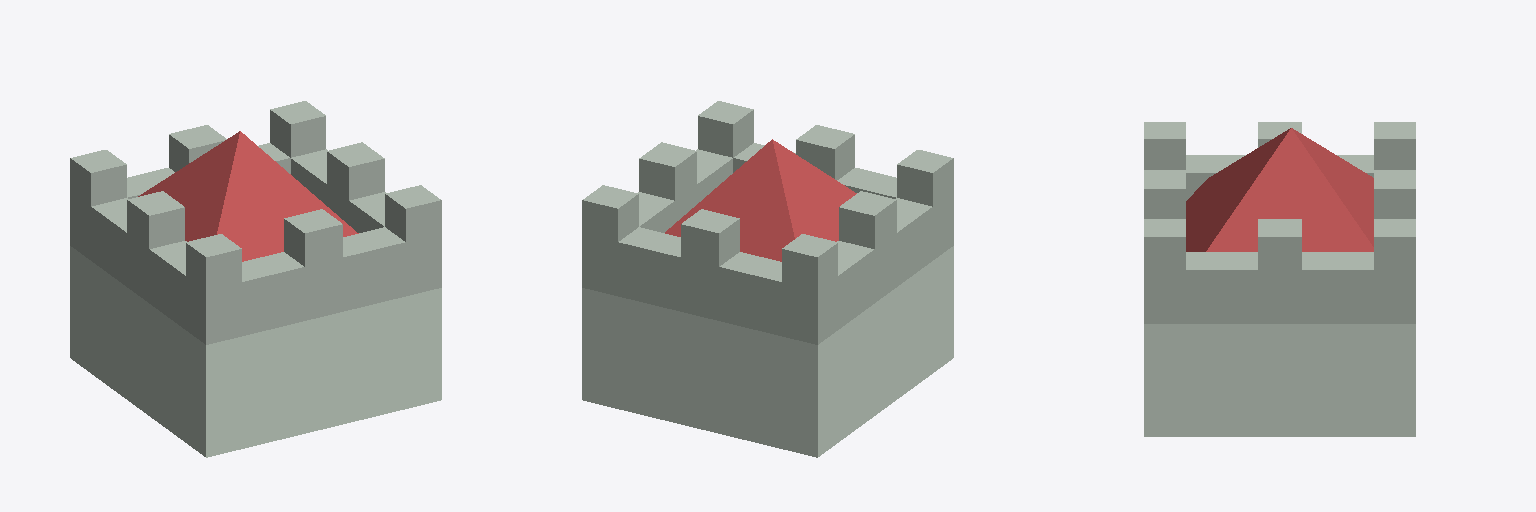
Rendered from towerDefense_052.obj.
The picture shows the model from 3 angles: view 1: azimuth 30°, elevation 25°; view 2: azimuth 150°, elevation 25°; view 3: azimuth 270°, elevation 25°; orthographic projection.
Parts seen in each view (by area): view 1: Mesh2 Group1 Model, Mesh1 Group3 Group1 Model; view 2: Mesh2 Group1 Model, Mesh1 Group3 Group1 Model; view 3: Mesh2 Group1 Model, Mesh1 Group3 Group1 Model.
Part boxes in pixels (bbox=[...]): Mesh2 Group1 Model: bbox=[70, 101, 441, 457]; Mesh1 Group3 Group1 Model: bbox=[138, 131, 358, 261]; Mesh2 Group1 Model: bbox=[582, 101, 953, 457]; Mesh1 Group3 Group1 Model: bbox=[665, 139, 856, 261]; Mesh2 Group1 Model: bbox=[1144, 122, 1415, 436]; Mesh1 Group3 Group1 Model: bbox=[1186, 128, 1373, 251].
Bounding box in the file's own units: 0.5901 × 0.5914 × 0.5901.